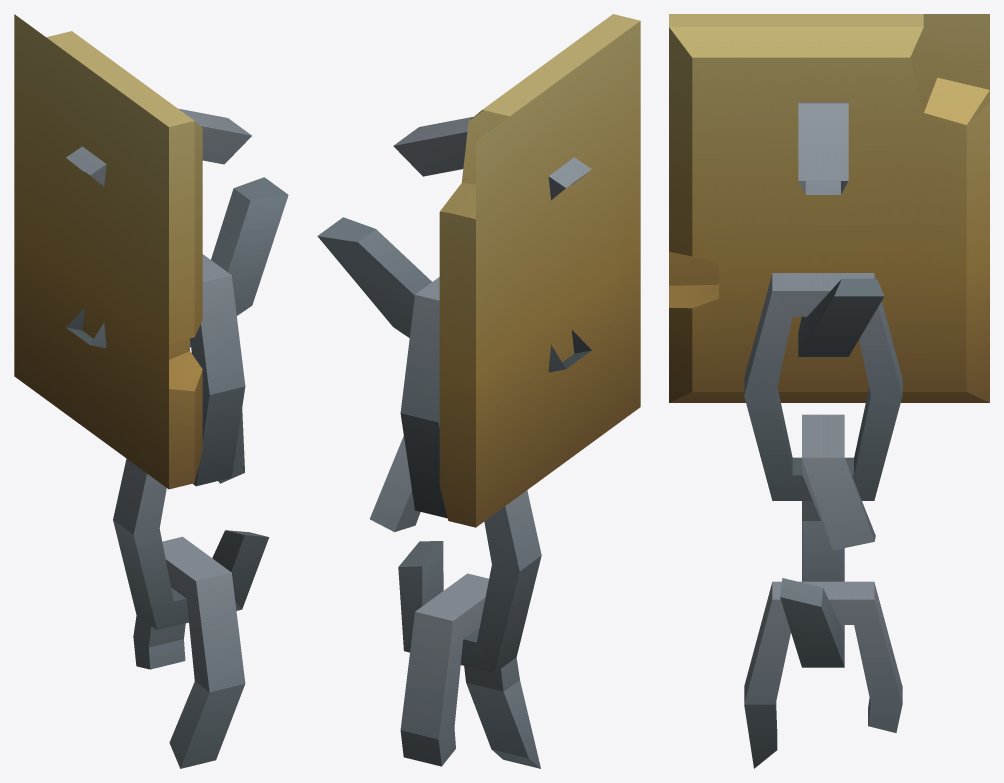
The model's file is CadenaRota.fbx.
The picture shows the model from 3 angles, left to right: view 1: azimuth 30°, elevation 25°; view 2: azimuth 150°, elevation 25°; view 3: azimuth 270°, elevation 25°; orthographic projection. The views are drawn at different scales.
Parts seen in each view (by area): view 1: A-1.003; view 2: A-1.003; view 3: A-1.003.
Part boxes in pixels (x1,y1,x2,y2): A-1.003: (14,14,288,768); A-1.003: (317,14,640,768); A-1.003: (669,14,989,768).
Size of the model in its own units: 107 by 324 by 132.
